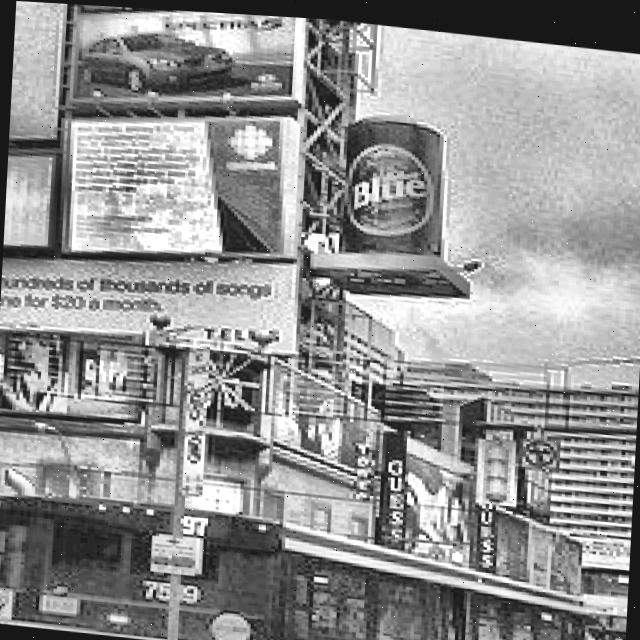light_vehicle: (76, 21, 240, 104)
